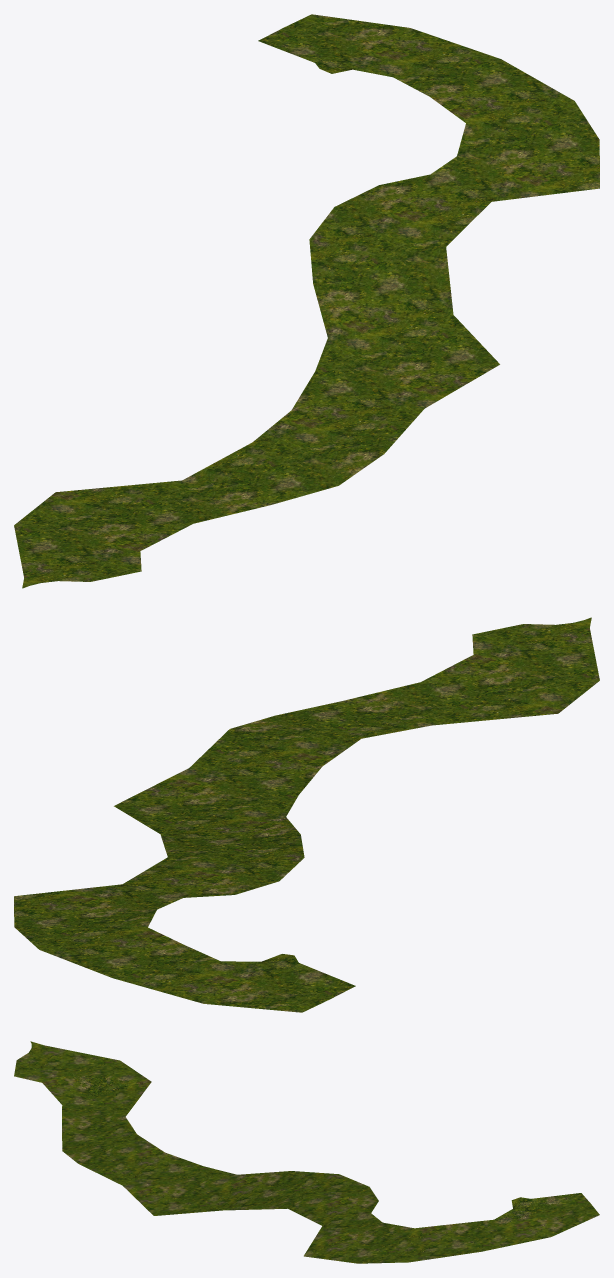
The model's file is OVERHILL_A_01_LINE92.fbx.
3 views of the same model, one above another, from view 1: azimuth 30°, elevation 25°; view 2: azimuth 210°, elevation 25°; view 3: azimuth 270°, elevation 25° (orthographic). The views are drawn at different scales.
Visible parts, largest first — view 1: OVERHILL_A_01_LINE92; view 2: OVERHILL_A_01_LINE92; view 3: OVERHILL_A_01_LINE92.
Part boxes in pixels (bbox=[...]): OVERHILL_A_01_LINE92: bbox=[14, 14, 599, 588]; OVERHILL_A_01_LINE92: bbox=[14, 617, 599, 1012]; OVERHILL_A_01_LINE92: bbox=[14, 1041, 599, 1263].
Bounding box in the file's own units: 136939 × 14641 × 124087.
Materials: 1 (1 with a texture image).
